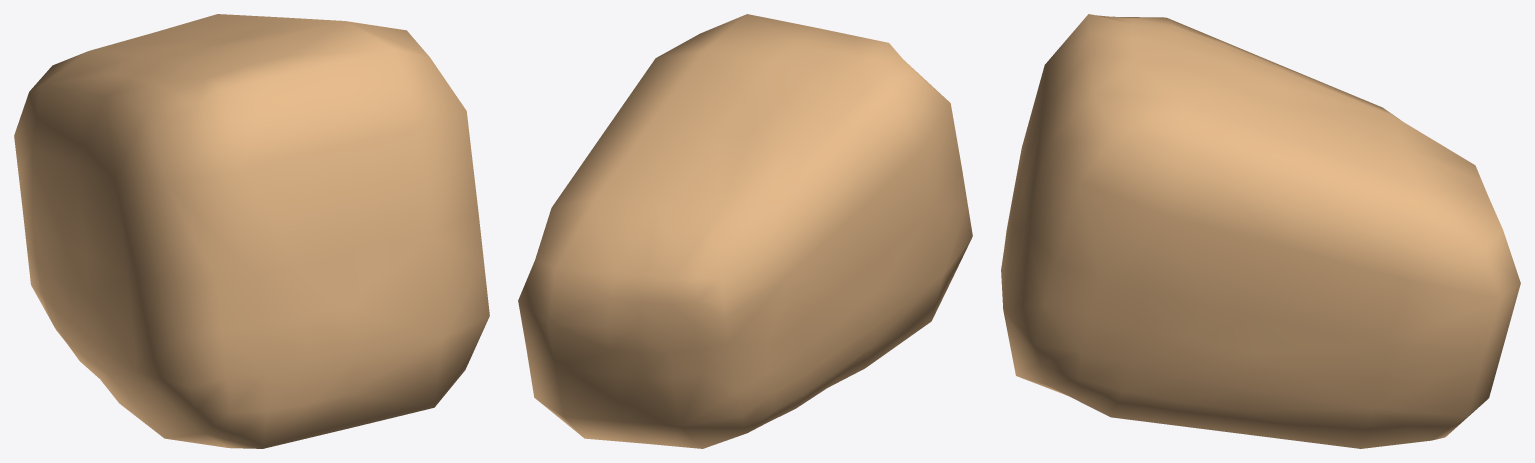
Rendered from thumb_03_r.dae.
3 views of the same model, side by side, from view 1: azimuth 30°, elevation 25°; view 2: azimuth 150°, elevation 25°; view 3: azimuth 270°, elevation 25° (orthographic). The views are drawn at different scales.
Visible parts, largest first — view 1: skin_geo_thumb_03_r; view 2: skin_geo_thumb_03_r; view 3: skin_geo_thumb_03_r.
Part boxes in pixels (x1,y1,x2,y2): skin_geo_thumb_03_r: (14, 14, 489, 448); skin_geo_thumb_03_r: (518, 14, 972, 448); skin_geo_thumb_03_r: (1001, 14, 1520, 448).
Size of the model in its own units: 0.02 by 0.0305 by 0.0226.
